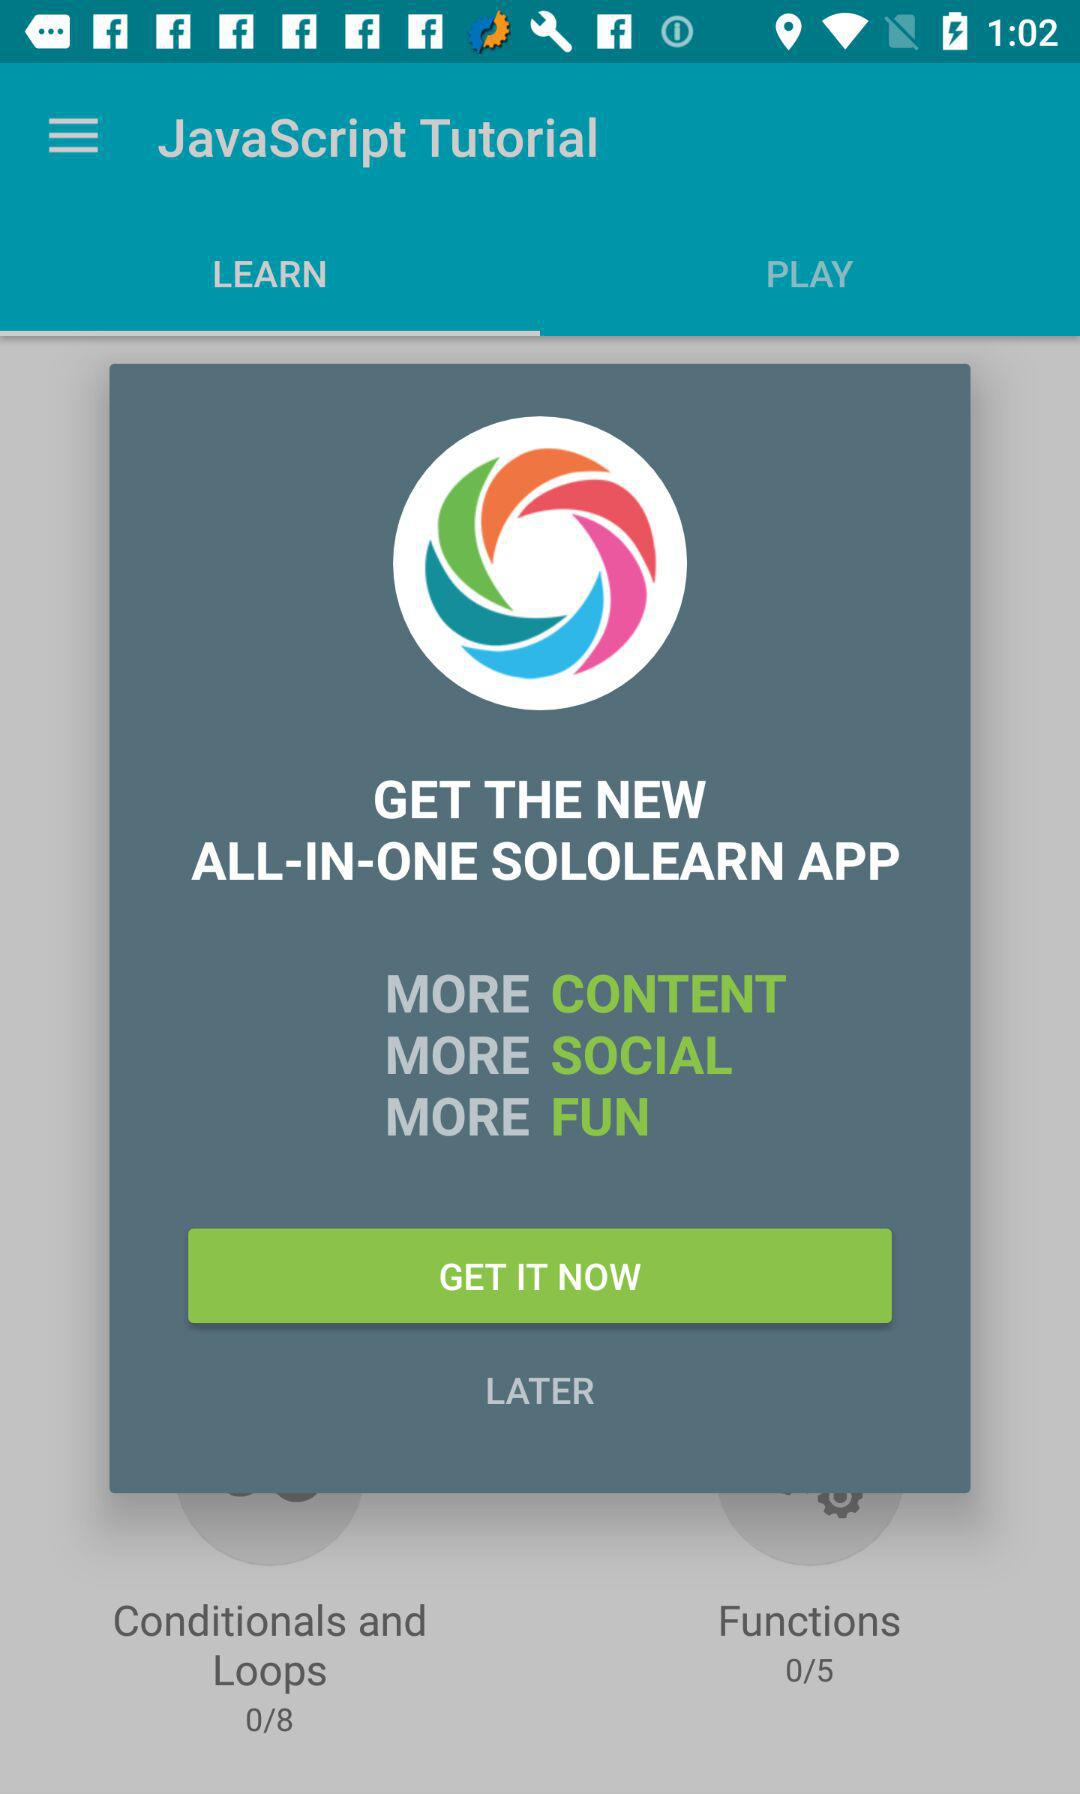Icon: (47, 117, 101, 156)
Image: (395, 418, 685, 710)
Modal: (110, 364, 972, 1494)
Text: (191, 780, 899, 882), (114, 1603, 427, 1695), (158, 117, 597, 170), (388, 974, 788, 1015), (389, 1035, 734, 1075), (387, 1098, 648, 1137), (719, 1604, 899, 1638), (213, 260, 327, 290), (487, 1378, 594, 1406), (767, 260, 855, 290), (246, 1707, 293, 1732), (787, 1658, 834, 1684)
TextButton: (188, 1228, 893, 1322)
UpperTaskBar: (1, 1, 1080, 64)
